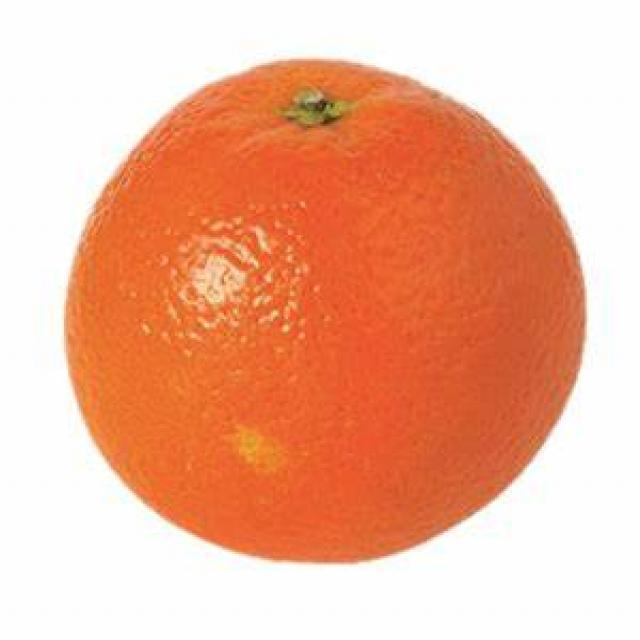Orange: (67, 54, 596, 568)
